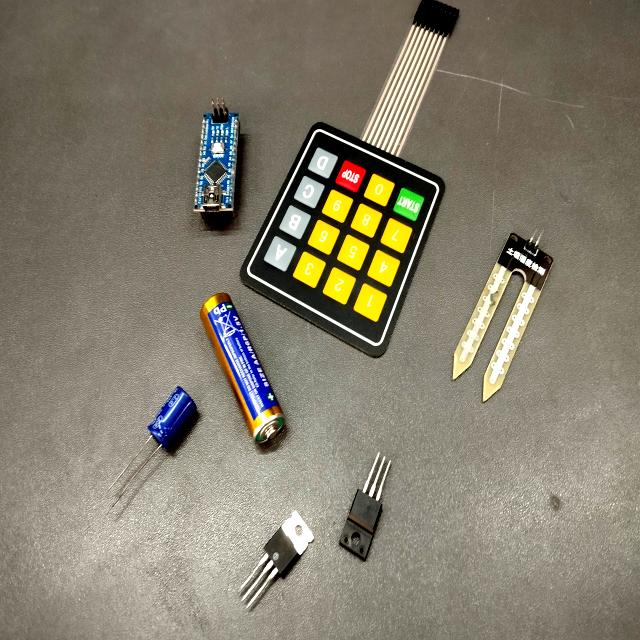capacitor: (144, 385, 199, 454)
